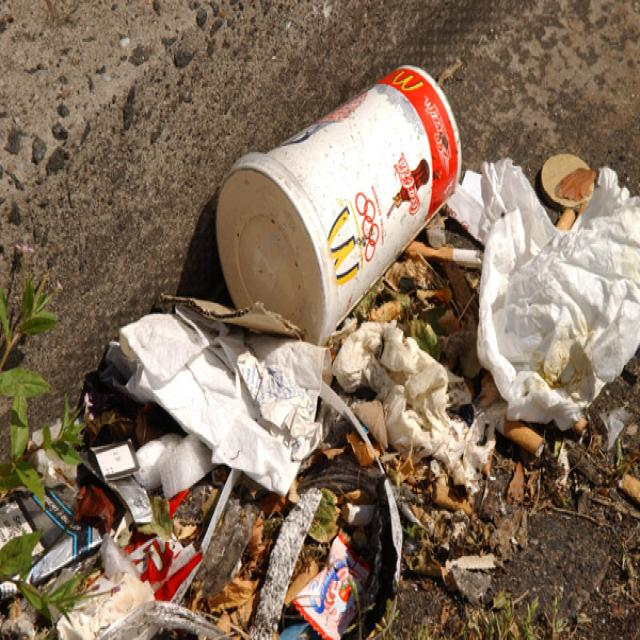garbage: (0, 68, 640, 640)
